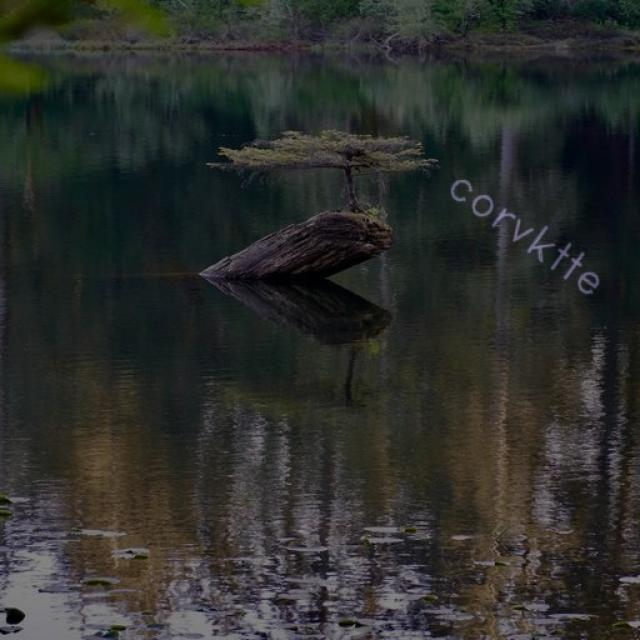watermark: (433, 157, 624, 307)
